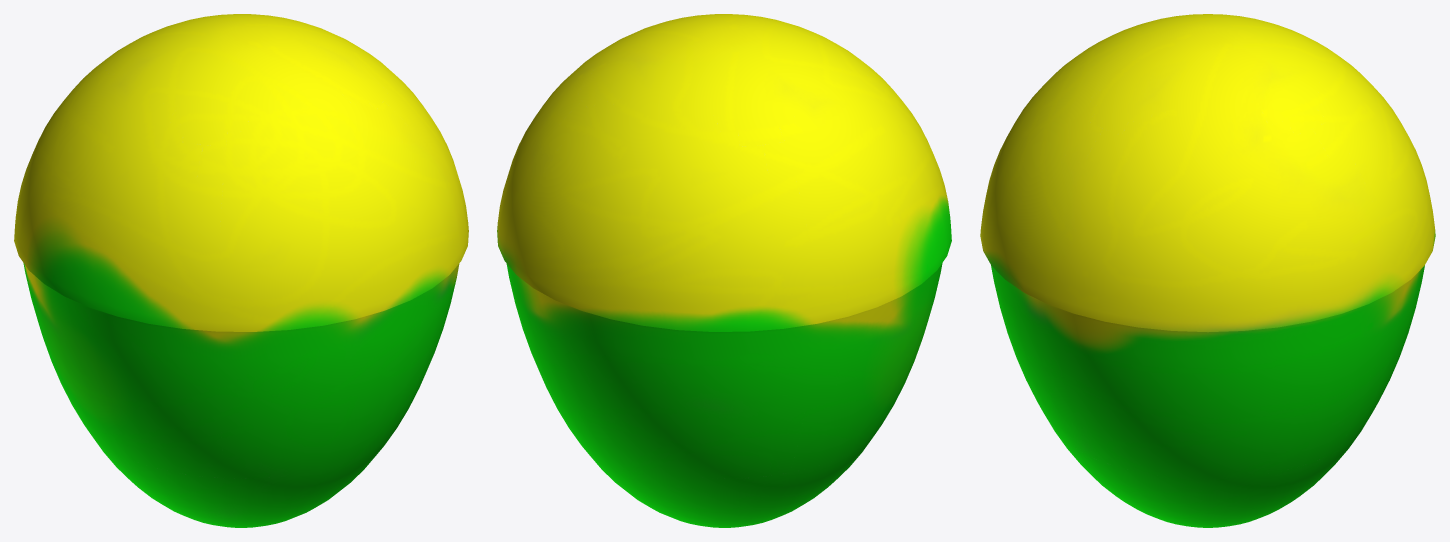
The model's file is Balloon.fbx.
The picture shows the model from 3 angles, left to right: view 1: azimuth 30°, elevation 25°; view 2: azimuth 150°, elevation 25°; view 3: azimuth 270°, elevation 25°; orthographic projection.
Parts seen in each view (by area): view 1: pSphere1; view 2: pSphere1; view 3: pSphere1.
Boxes of the visible parts, box(x1,y1,x2,y2) form: pSphere1: box(14, 14, 468, 527); pSphere1: box(497, 14, 951, 527); pSphere1: box(980, 14, 1435, 527).
Bounding box in the file's own units: 7.35 × 8.58 × 7.35.
